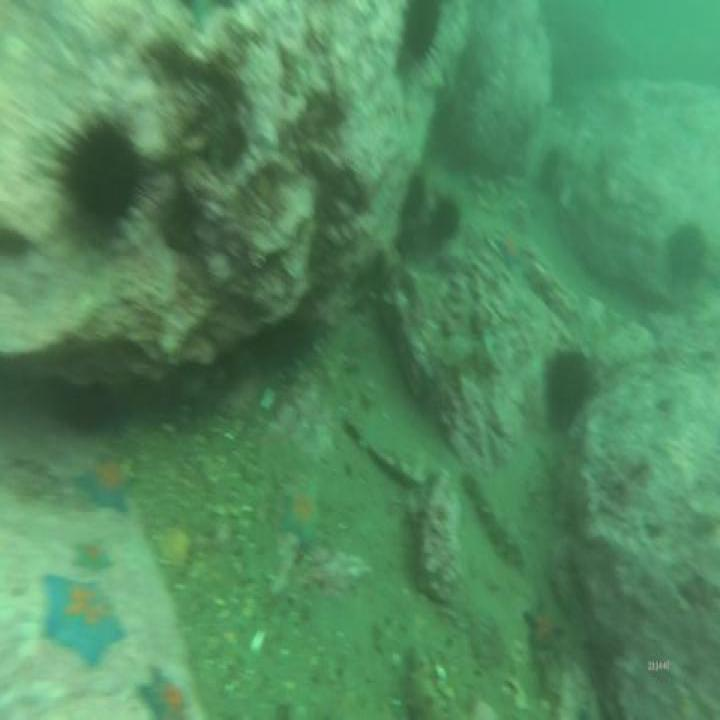echinus: (58, 117, 144, 235), (540, 340, 597, 434), (664, 217, 710, 293), (404, 5, 448, 71), (427, 185, 462, 247)
holothurian: (463, 466, 528, 574), (405, 642, 447, 720)
starfish: (39, 567, 127, 667), (274, 480, 330, 553), (76, 450, 138, 515), (137, 663, 194, 720), (522, 592, 566, 656), (69, 537, 116, 578), (491, 228, 527, 274)
